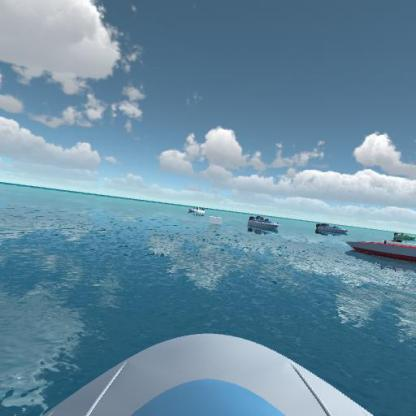usv0: (391, 227, 415, 242)
usv1: (312, 218, 349, 240), (246, 213, 281, 236), (188, 202, 206, 218)
usv3: (344, 232, 415, 264)
